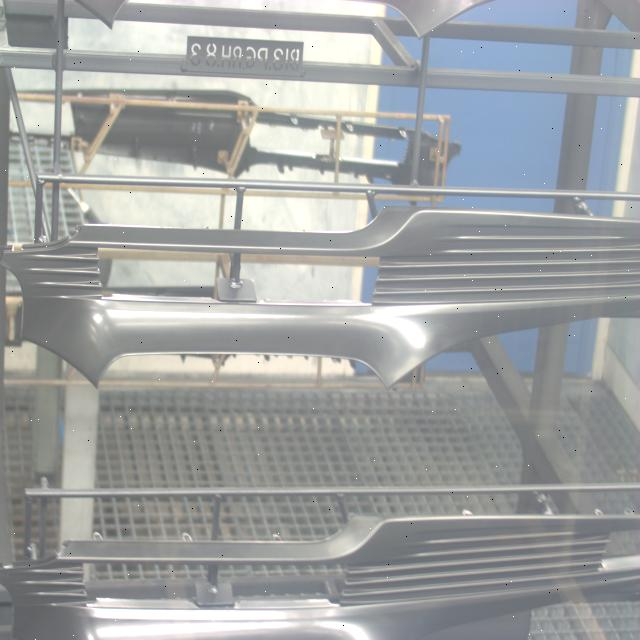Non_primered: (0, 209, 635, 403), (0, 503, 638, 640)
